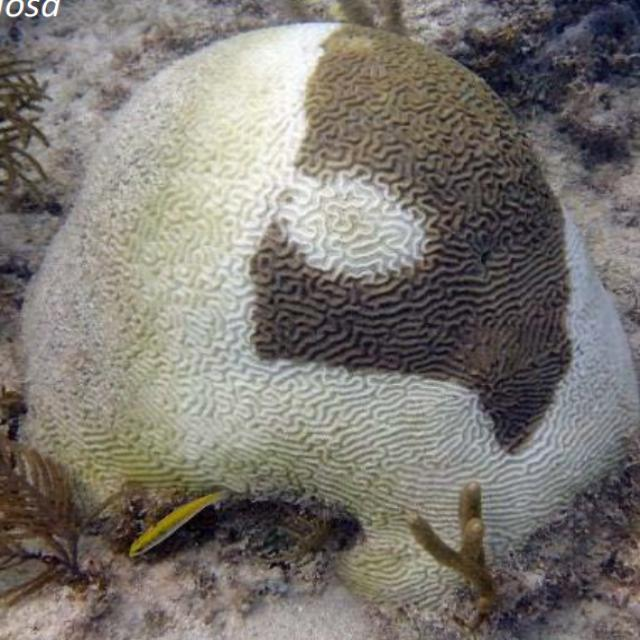Coral: (12, 22, 640, 628), (408, 482, 500, 618)
